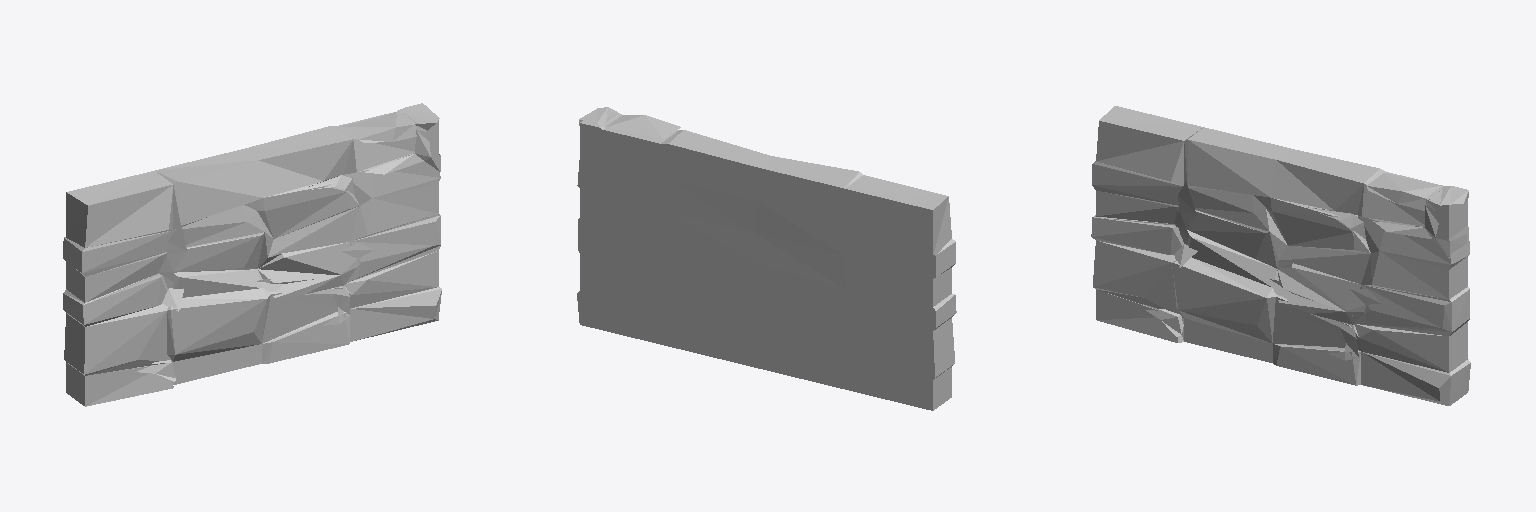
File: pared mitad.obj
The picture shows the model from 3 angles: view 1: azimuth 30°, elevation 25°; view 2: azimuth 150°, elevation 25°; view 3: azimuth 330°, elevation 25°; orthographic projection.
Visible parts, largest first — view 1: musgo_3; view 2: musgo_3; view 3: musgo_3.
Part boxes in pixels (x1,y1,x2,y2): musgo_3: (63,103,441,406); musgo_3: (577,107,956,410); musgo_3: (1091,106,1470,405).
Bounding box in the file's own units: 4.1 × 2.22 × 0.4858.